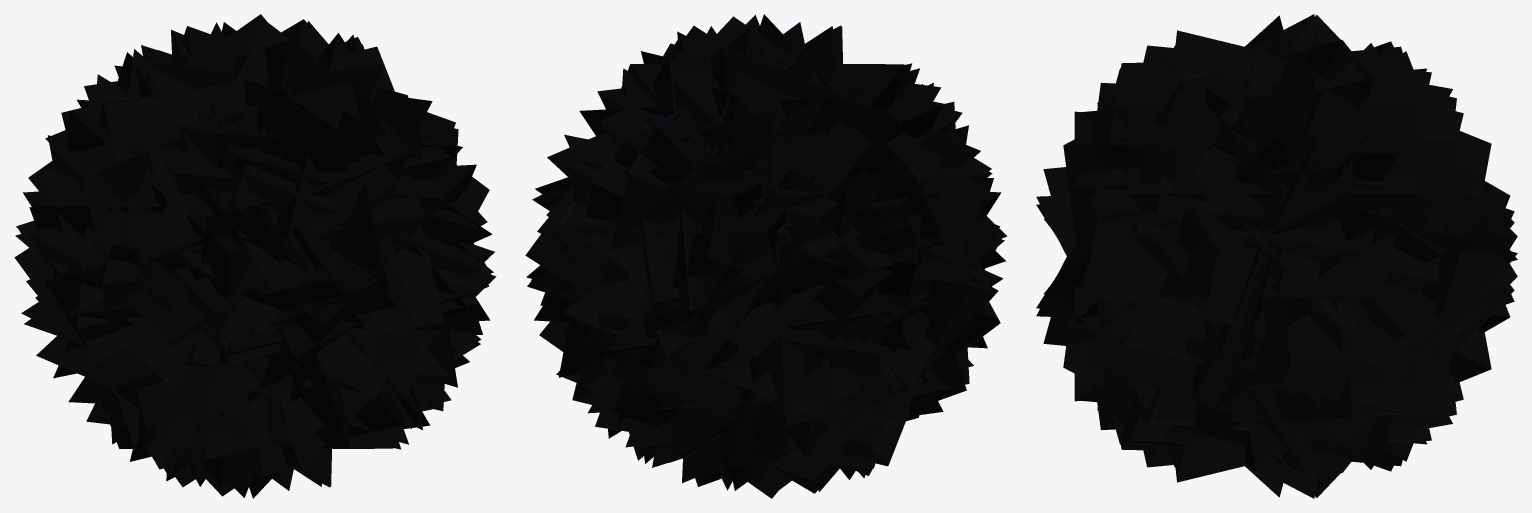
Rendered from Death_Stranding.glb.
3 renders of one model, left to right at view 1: azimuth 30°, elevation 25°; view 2: azimuth 150°, elevation 25°; view 3: azimuth 270°, elevation 25°, orthographic.
Parts seen in each view (by area): view 1: mesh_id210, mesh_id285, mesh_id202, mesh_id211, mesh_id268, mesh_id208, mesh_id277, mesh_id267, mesh_id271, mesh_id212, mesh_id209, mesh_id283 (+48 smaller); view 2: mesh_id264, mesh_id206, mesh_id207, mesh_id263, mesh_id201, mesh_id272, mesh_id265, mesh_id281, mesh_id260, mesh_id147, mesh_id213, mesh_id204 (+49 smaller); view 3: mesh_id281, mesh_id213, mesh_id289, mesh_id278, mesh_id275, mesh_id277, mesh_id290, mesh_id283, mesh_id279, mesh_id284, mesh_id276, mesh_id204 (+41 smaller).
Part boxes in pixels (x1,y1,x2,y2): mesh_id210: [75, 81, 422, 428]; mesh_id285: [153, 22, 489, 399]; mesh_id202: [28, 14, 398, 345]; mesh_id211: [104, 55, 444, 371]; mesh_id268: [29, 204, 349, 448]; mesh_id208: [130, 46, 477, 363]; mesh_id277: [171, 29, 482, 276]; mesh_id267: [45, 223, 420, 472]; mesh_id271: [68, 111, 246, 484]; mesh_id212: [141, 45, 479, 245]; mesh_id209: [147, 65, 490, 295]; mesh_id283: [276, 33, 422, 428]; mesh_id264: [626, 72, 987, 448]; mesh_id206: [546, 16, 943, 358]; mesh_id207: [525, 25, 872, 370]; mesh_id263: [642, 134, 999, 475]; mesh_id201: [537, 64, 904, 256]; mesh_id272: [757, 101, 969, 426]; mesh_id265: [612, 252, 998, 426]; mesh_id281: [558, 26, 767, 377]; mesh_id260: [718, 178, 993, 471]; mesh_id147: [642, 218, 966, 486]; mesh_id213: [527, 26, 835, 288]; mesh_id204: [528, 43, 828, 337]; mesh_id281: [1205, 48, 1491, 410]; mesh_id213: [1121, 39, 1463, 371]; mesh_id289: [1068, 53, 1427, 402]; mesh_id278: [1110, 58, 1435, 365]; mesh_id275: [1128, 100, 1418, 388]; mesh_id277: [1084, 56, 1401, 302]; mesh_id290: [1087, 90, 1452, 453]; mesh_id283: [1074, 95, 1291, 401]; mesh_id279: [1193, 141, 1514, 471]; mesh_id284: [1063, 133, 1351, 430]; mesh_id276: [1157, 134, 1456, 426]; mesh_id204: [1193, 15, 1514, 378].
Size of the model in its own units: 0.4169 by 0.4154 by 0.4108.
Materials: 64 (64 with a texture image).
